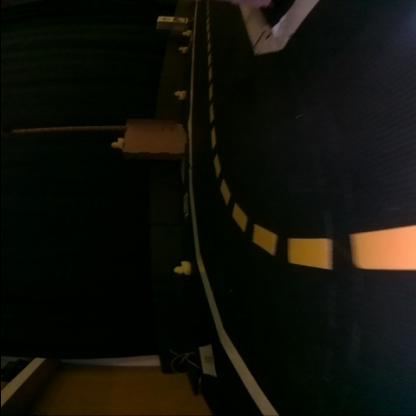Duckie: (172, 260, 190, 274), (109, 137, 122, 148), (172, 90, 186, 100), (180, 29, 191, 35), (177, 46, 185, 52)
Intersection sign: (157, 16, 171, 22)
QR code: (180, 193, 188, 217), (172, 16, 186, 22)
